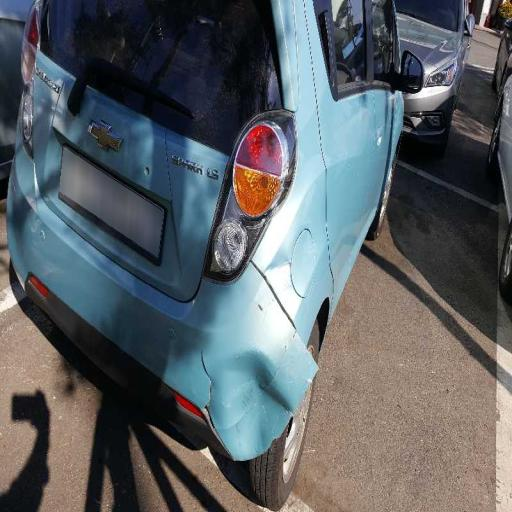broken: (171, 165, 361, 493)
